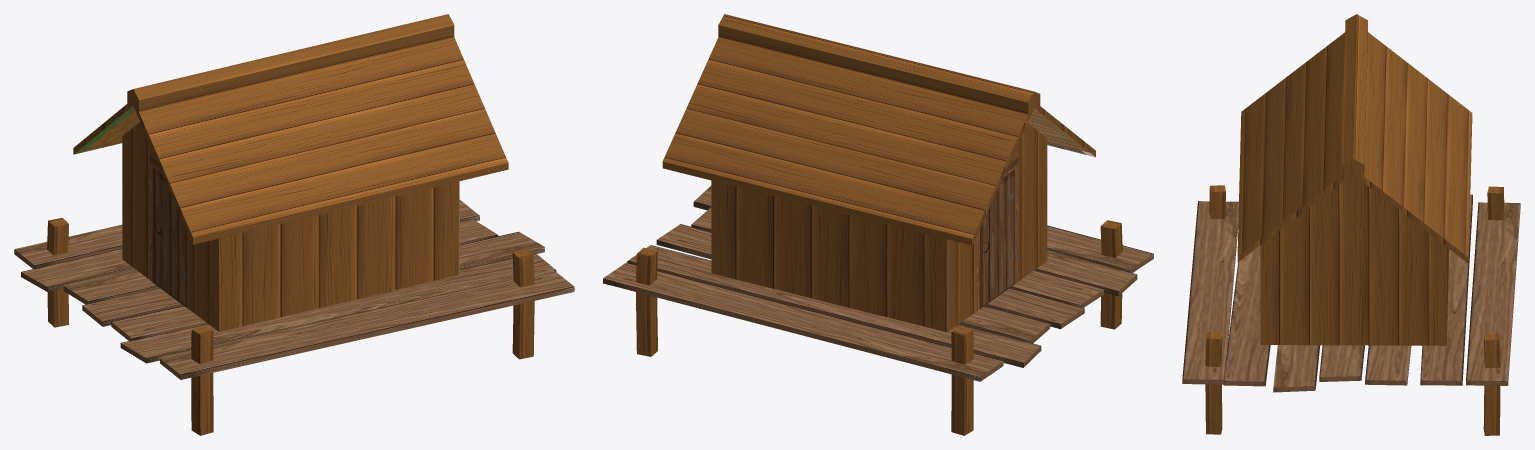
The picture shows the model from 3 angles, left to right: view 1: azimuth 30°, elevation 25°; view 2: azimuth 150°, elevation 25°; view 3: azimuth 270°, elevation 25°; orthographic projection. The views are drawn at different scales.
Parts seen in each view (by area): view 1: defaultMaterial.040; view 2: defaultMaterial.040; view 3: defaultMaterial.040.
Boxes of the visible parts, box(x1,y1,x2,y2) form: defaultMaterial.040: box(14, 14, 574, 435); defaultMaterial.040: box(603, 14, 1153, 435); defaultMaterial.040: box(1182, 14, 1520, 435).
Bounding box in the file's own units: 531 × 348 × 393.
Materials: 1 (1 with a texture image).
